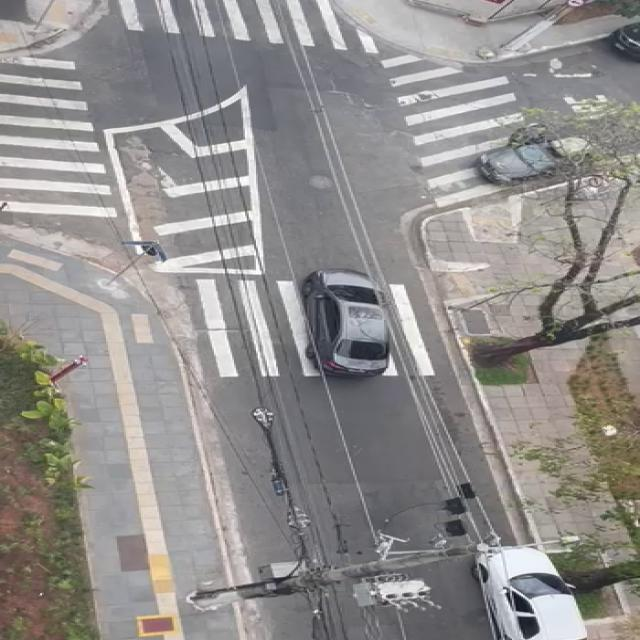car: (458, 539, 593, 640), (295, 266, 405, 383), (472, 133, 609, 195), (609, 15, 640, 63)
